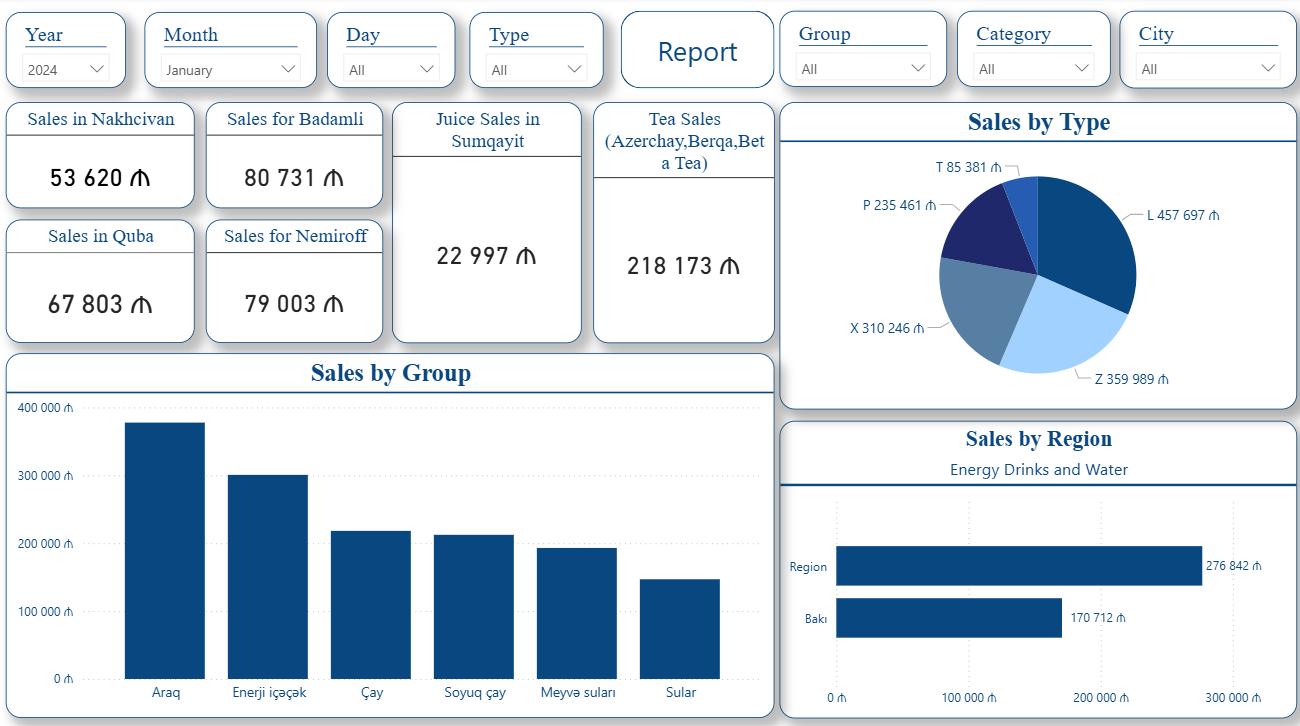

The dashboard page shown, as its layout file describes it:
{"tool":"powerbi","page":{"name":"Page 1","canvas":[1280,720],"ordinal":0},"visuals":[{"type":"slicer","fields":{"Values":["Satış.Tarix.Variation.Date Hierarchy.Year"]},"box":[8.6,14.7,117.4,74.6],"z":0},{"type":"slicer","fields":{"Values":["Satış.Tarix.Variation.Date Hierarchy.Month"]},"box":[144.3,14.7,168.8,74.6],"z":1000},{"type":"slicer","fields":{"Values":["Satış.Tarix.Variation.Date Hierarchy.Day"]},"box":[322.8,14.7,126,74.6],"z":2000},{"type":"slicer","fields":{"Values":["Müştəri.Tip"]},"box":[462.2,14.7,130.8,74.6],"z":3000},{"type":"slicer","fields":{"Values":["Satış.Qrup"]},"box":[765.5,13.5,163.9,74.6],"z":4000},{"type":"slicer","fields":{"Values":["Müştəri.Şəhər-Rayon"]},"box":[1098.1,13.5,173.6,75.8],"z":5000},{"type":"slicer","fields":{"Values":["Satış.Çeşid"]},"box":[939.1,13.5,150.4,74.6],"z":6000},{"type":"cardVisual","title":"Sales in Nakhcivan","fields":{"Data":["Satış.Naxçıvan üzrə satış"]},"box":[8.6,102.7,184.6,103.9],"z":7000},{"type":"cardVisual","title":"Sales in Quba","fields":{"Data":["Satış.Quba üzrə satış"]},"box":[8.6,217.7,184.6,121.1],"z":8000},{"type":"cardVisual","title":"Juice Sales in Sumqayit","fields":{"Data":["Satış.Sumqayıt şəhərində satılan meyvə suları üzrə satış"]},"box":[386.4,102.7,185.9,236],"z":9000},{"type":"cardVisual","title":"Sales for Badamli","fields":{"Data":["Satış.Badamlı"]},"box":[204.2,102.7,173.6,103.9],"z":10000},{"type":"cardVisual","title":"Sales for Nemiroff","fields":{"Data":["Satış.Nemiroff"]},"box":[204.2,217.7,173.6,121.1],"z":11000},{"type":"cardVisual","title":"Tea Sales (Azerchay,Berqa,Beta Tea)","fields":{"Data":["Satış.Azərçay,BetaTea,Berqa"]},"box":[583.3,102.7,177.3,236],"z":12000},{"type":"shape","box":[610.2,13.5,150.4,75.8],"z":13000},{"type":"clusteredBarChart","title":"Sales by Region","fields":{"Y":["Satış.Enerji içəcək və ya sular"],"Category":["Müştəri.Bölgə"]},"box":[765.5,414.5,506.3,291],"z":14000},{"type":"pieChart","title":"Sales by Type","fields":{"Category":["Müştəri.Tip"],"Y":["Sum(Satış.Satış Manat)"]},"box":[765.5,102.7,506.3,300.8],"z":15000},{"type":"clusteredColumnChart","title":"Sales by Group","fields":{"Category":["Satış.Qrup"],"Y":["Sum(Satış.Satış Manat)"]},"box":[8.6,348.5,752,357.1],"z":16000}]}

Visuals, with their boxes in screenshot pixels (x1, y1, x2, y2), scaled from the page's 1280x720 canvas onto the 1300x726 screenshot:
slicer - Satış.Tarix.Variation.Date Hierarchy.Year: (x1=9, y1=15, x2=128, y2=90)
slicer - Satış.Tarix.Variation.Date Hierarchy.Month: (x1=147, y1=15, x2=318, y2=90)
slicer - Satış.Tarix.Variation.Date Hierarchy.Day: (x1=328, y1=15, x2=456, y2=90)
slicer - Müştəri.Tip: (x1=469, y1=15, x2=602, y2=90)
slicer - Satış.Qrup: (x1=777, y1=14, x2=944, y2=89)
slicer - Müştəri.Şəhər-Rayon: (x1=1115, y1=14, x2=1292, y2=90)
slicer - Satış.Çeşid: (x1=954, y1=14, x2=1107, y2=89)
"Sales in Nakhcivan" cardVisual: (x1=9, y1=104, x2=196, y2=208)
"Sales in Quba" cardVisual: (x1=9, y1=220, x2=196, y2=342)
"Juice Sales in Sumqayit" cardVisual: (x1=392, y1=104, x2=581, y2=342)
"Sales for Badamli" cardVisual: (x1=207, y1=104, x2=384, y2=208)
"Sales for Nemiroff" cardVisual: (x1=207, y1=220, x2=384, y2=342)
"Tea Sales (Azerchay,Berqa,Beta Tea)" cardVisual: (x1=592, y1=104, x2=772, y2=342)
shape: (x1=620, y1=14, x2=772, y2=90)
"Sales by Region" clusteredBarChart: (x1=777, y1=418, x2=1292, y2=711)
"Sales by Type" pieChart: (x1=777, y1=104, x2=1292, y2=407)
"Sales by Group" clusteredColumnChart: (x1=9, y1=351, x2=772, y2=711)
